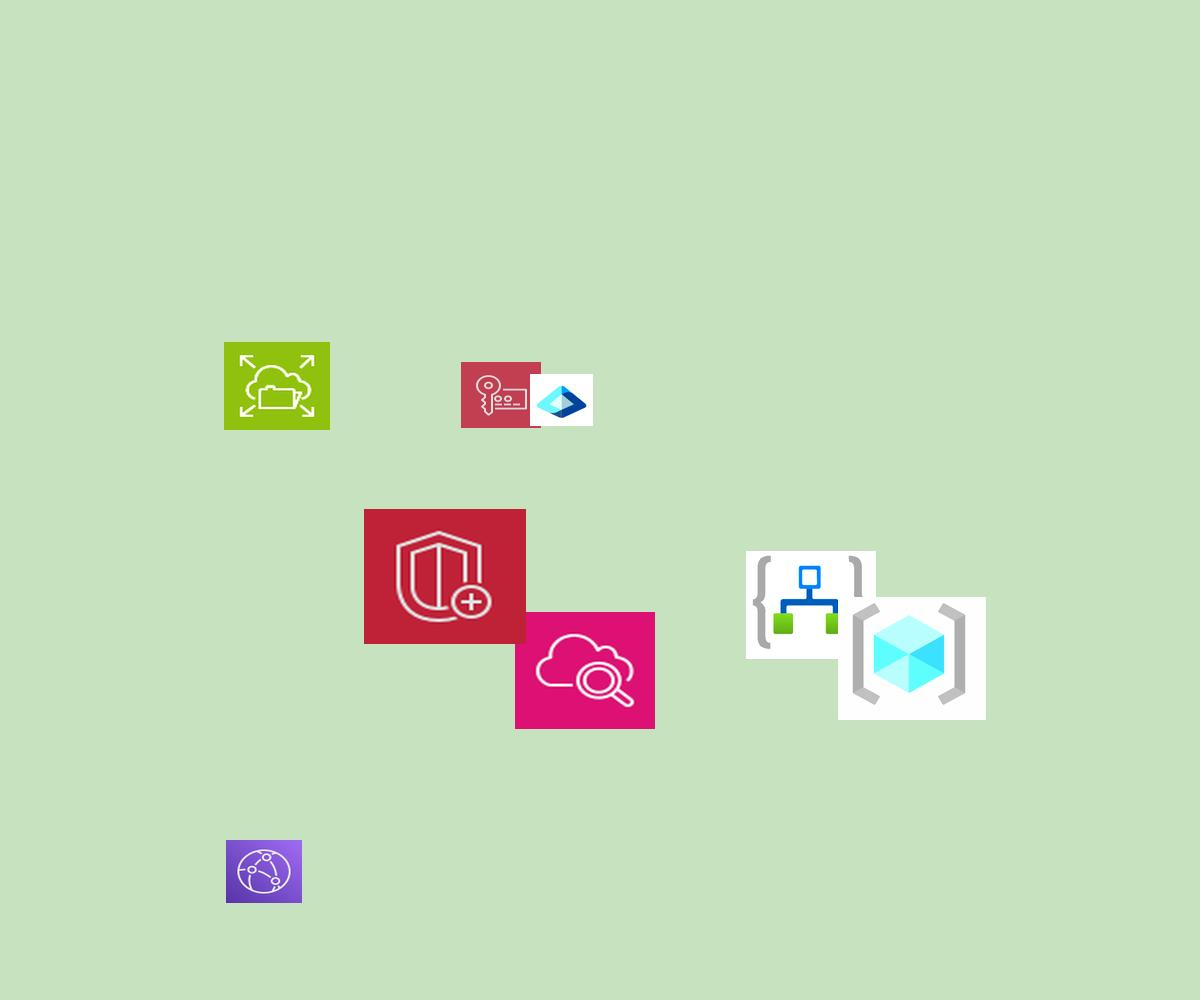AWS-CloudFront: (226, 840, 302, 903)
AWS-CloudWatch: (515, 612, 655, 729)
AWS-EFS: (224, 342, 330, 430)
AWS-Key-Management-Service: (461, 362, 541, 428)
AWS-Shield: (364, 509, 526, 644)
Azure_integration-204-Logic-Apps: (746, 551, 876, 659)
Azure_microsoft_entra: (530, 374, 593, 426)
Azure_resource_group: (838, 597, 986, 720)
